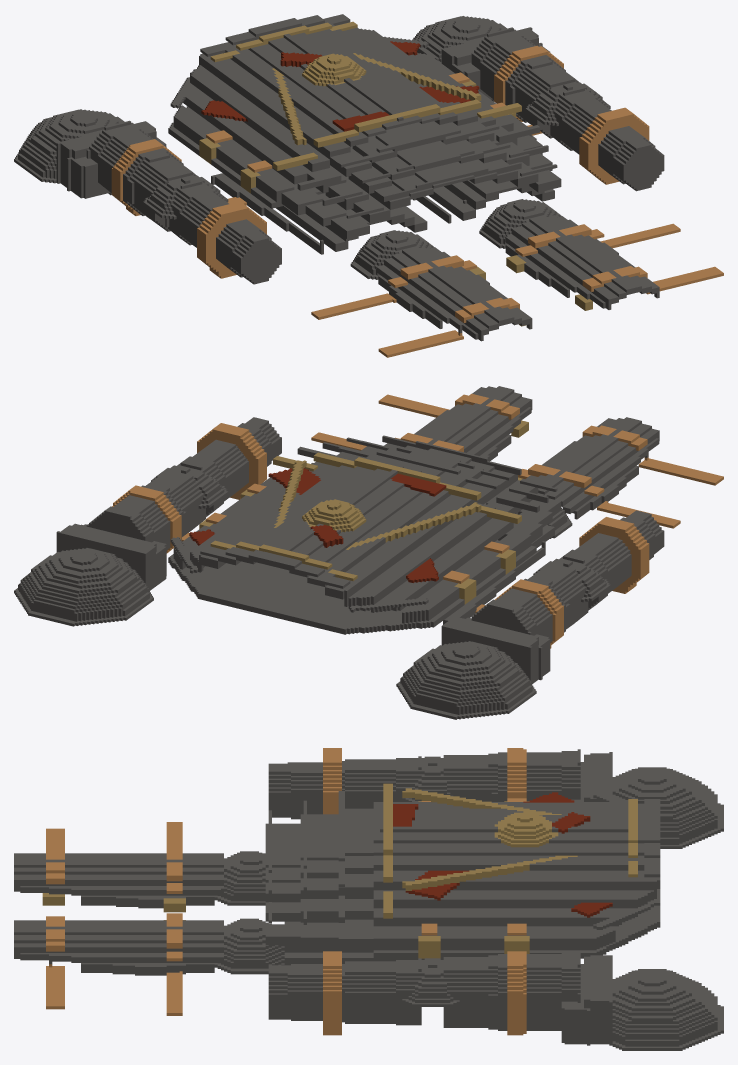
The model's file is armor_junk_plate.glb.
The picture shows the model from 3 angles, top to bottom: view 1: azimuth 30°, elevation 25°; view 2: azimuth 150°, elevation 25°; view 3: azimuth 270°, elevation 25°; orthographic projection. The views are drawn at different scales.
Parts seen in each view (by area): view 1: armor_junk_plate:compound; view 2: armor_junk_plate:compound; view 3: armor_junk_plate:compound.
Boxes of the visible parts, box(x1,y1,x2,y2) form: armor_junk_plate:compound: box(14, 14, 723, 357); armor_junk_plate:compound: box(14, 386, 723, 719); armor_junk_plate:compound: box(14, 748, 723, 1050).
Bounding box in the file's own units: 0.776 × 0.152 × 0.892.
